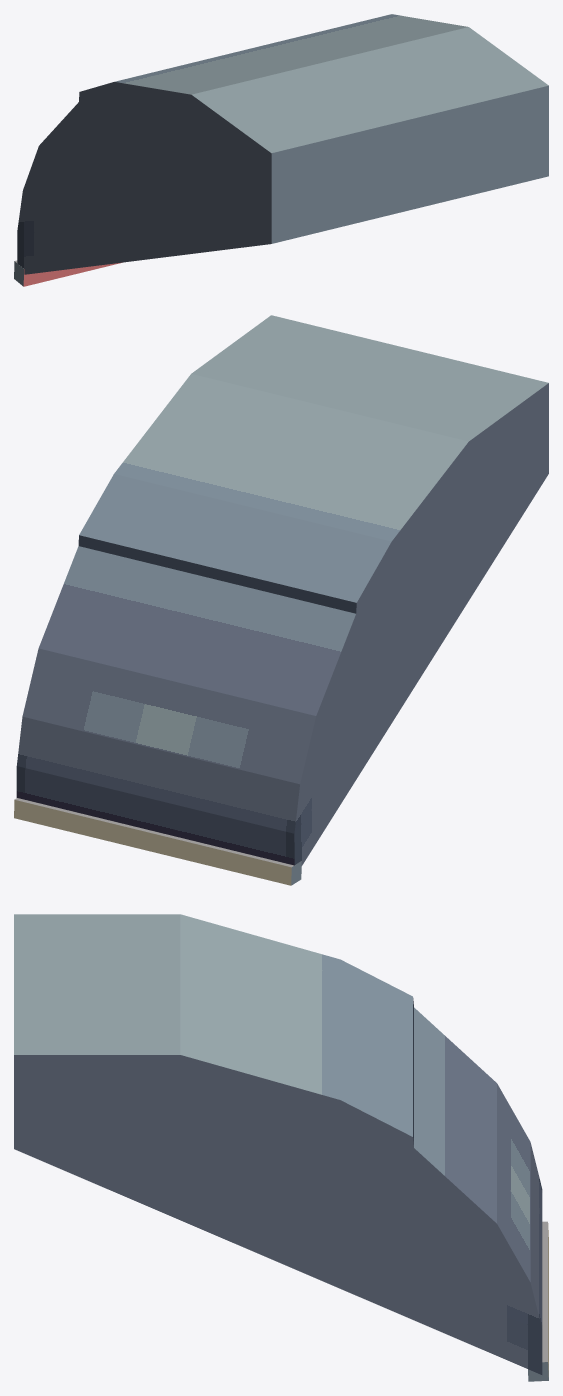
Rendered from df11_carport_general.obj.
3 views of the same model, one above another, from view 1: azimuth 30°, elevation 25°; view 2: azimuth 150°, elevation 25°; view 3: azimuth 270°, elevation 25° (orthographic). The views are drawn at different scales.
Visible parts, largest first — view 1: cube; view 2: cube; view 3: cube.
Part boxes in pixels (x1,y1,x2,y2): cube: [14, 14, 548, 286]; cube: [14, 315, 548, 885]; cube: [14, 914, 548, 1381].
Size of the model in its own units: 1 by 1.08 by 1.61.
